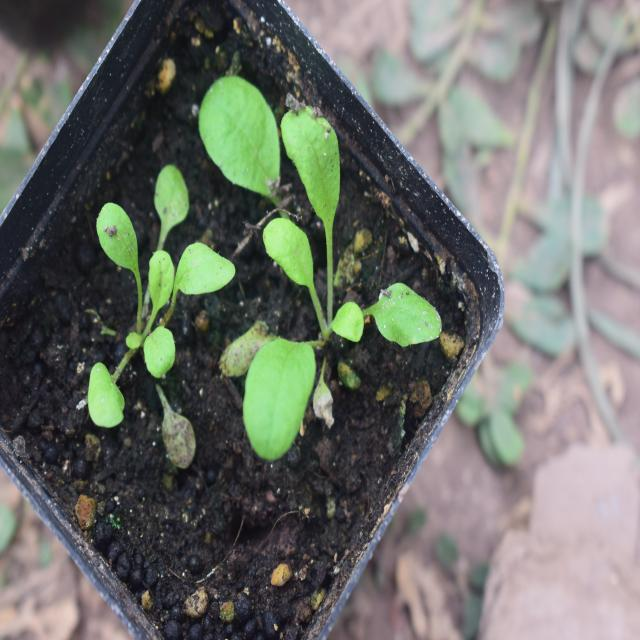Shepherd_Purse: (208, 80, 408, 432), (79, 160, 243, 406)
